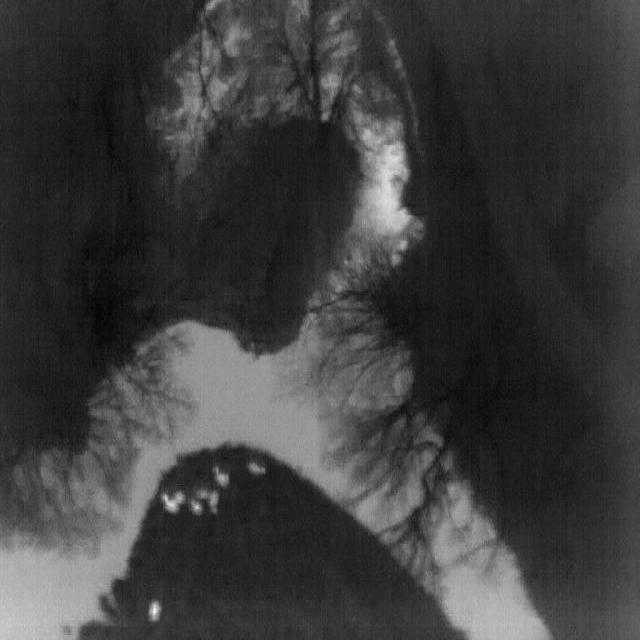deer: (161, 493, 180, 513), (213, 467, 229, 488), (148, 600, 162, 622), (209, 489, 220, 514), (248, 462, 266, 476), (172, 491, 186, 505), (190, 500, 203, 515), (195, 488, 209, 499)
